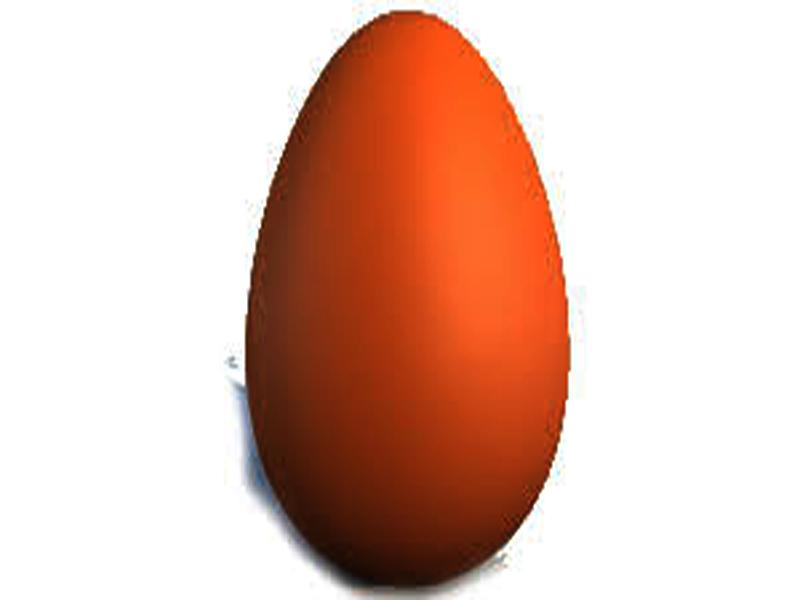Eggs: (247, 14, 570, 586)
